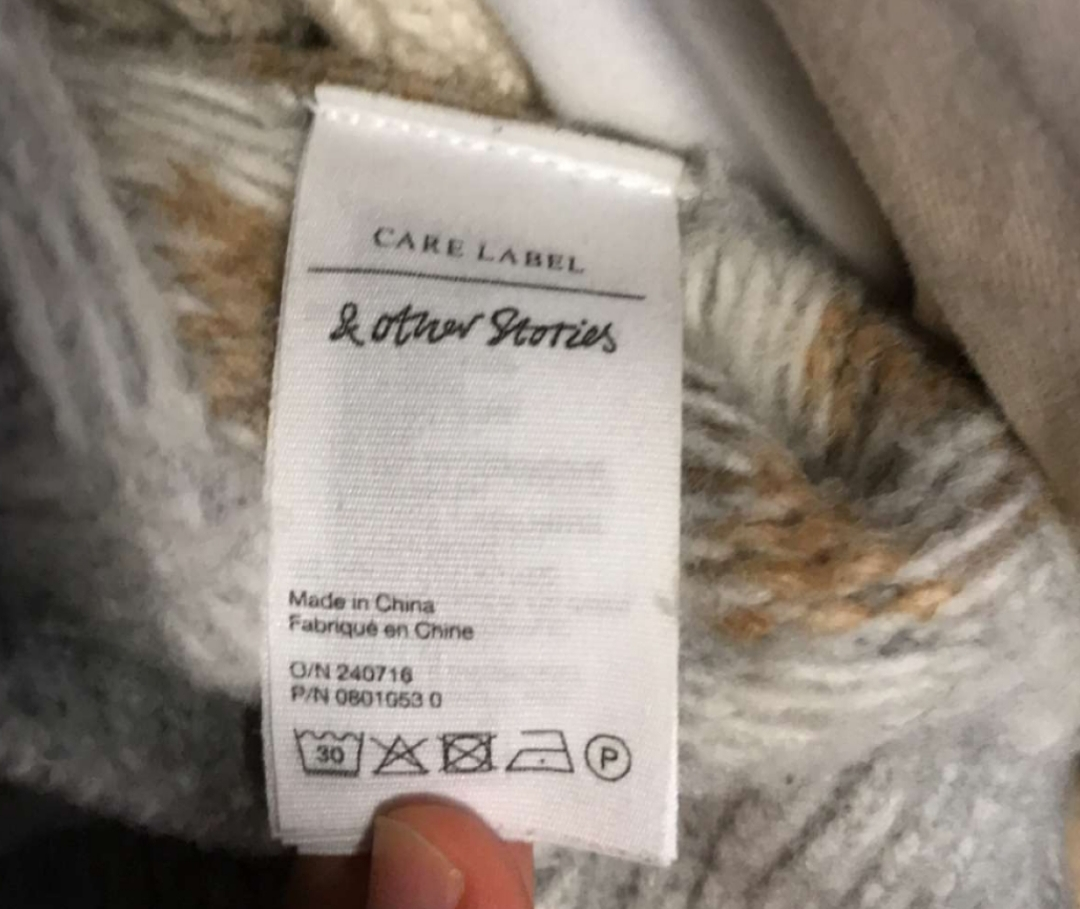do not bleach: (369, 724, 434, 794)
do not tumble dry: (435, 725, 504, 783)
dry clean: (586, 726, 639, 789)
iron low temp: (504, 720, 581, 780)
wash at or below 30: (287, 721, 368, 784)
